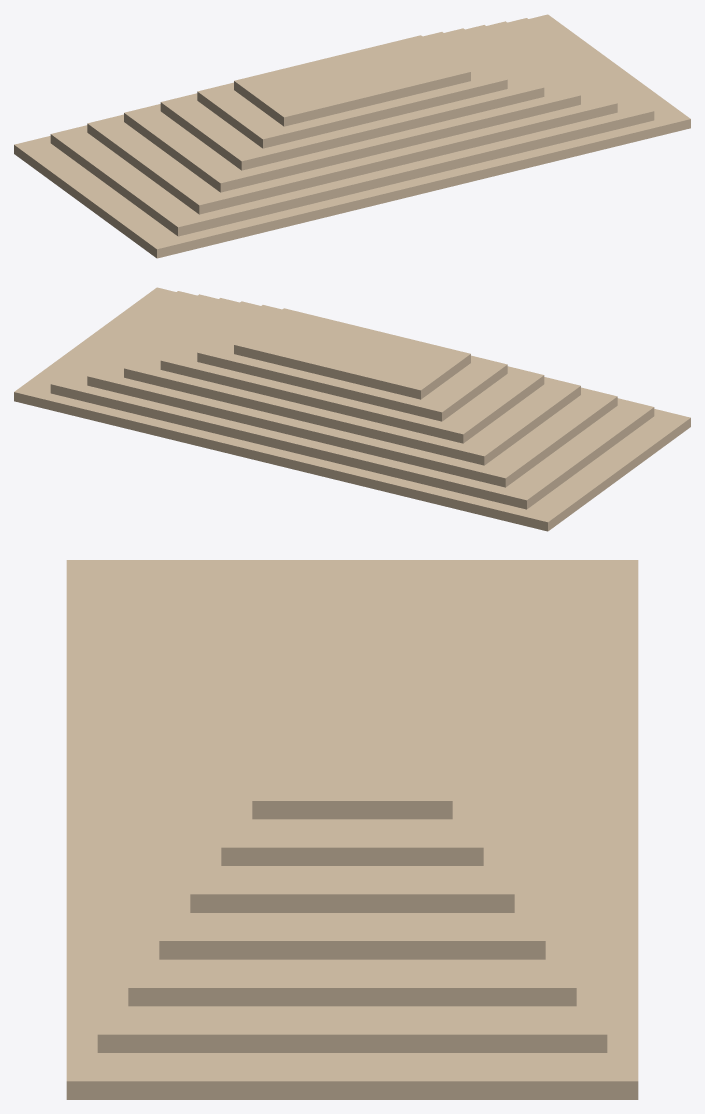
Rendered from place-huaca-del-sol-moche.glb.
3 views of the same model, one above another, from view 1: azimuth 30°, elevation 25°; view 2: azimuth 150°, elevation 25°; view 3: azimuth 270°, elevation 25° (orthographic). The views are drawn at different scales.
Parts seen in each view (by area): view 1: place-huaca-del-sol-moche; view 2: place-huaca-del-sol-moche; view 3: place-huaca-del-sol-moche.
Boxes of the visible parts, bbox=[...] form: place-huaca-del-sol-moche: bbox=[14, 14, 690, 258]; place-huaca-del-sol-moche: bbox=[14, 287, 690, 531]; place-huaca-del-sol-moche: bbox=[66, 560, 638, 1099].
Bounding box in the file's own units: 345 × 40 × 160.
